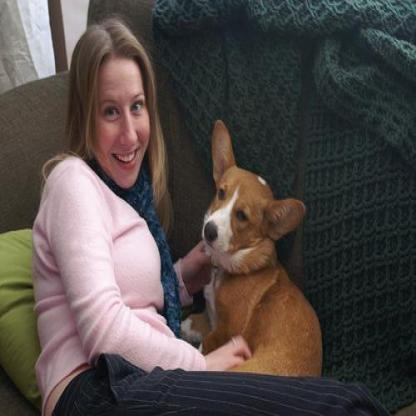Pembroke: (200, 112, 322, 370)
